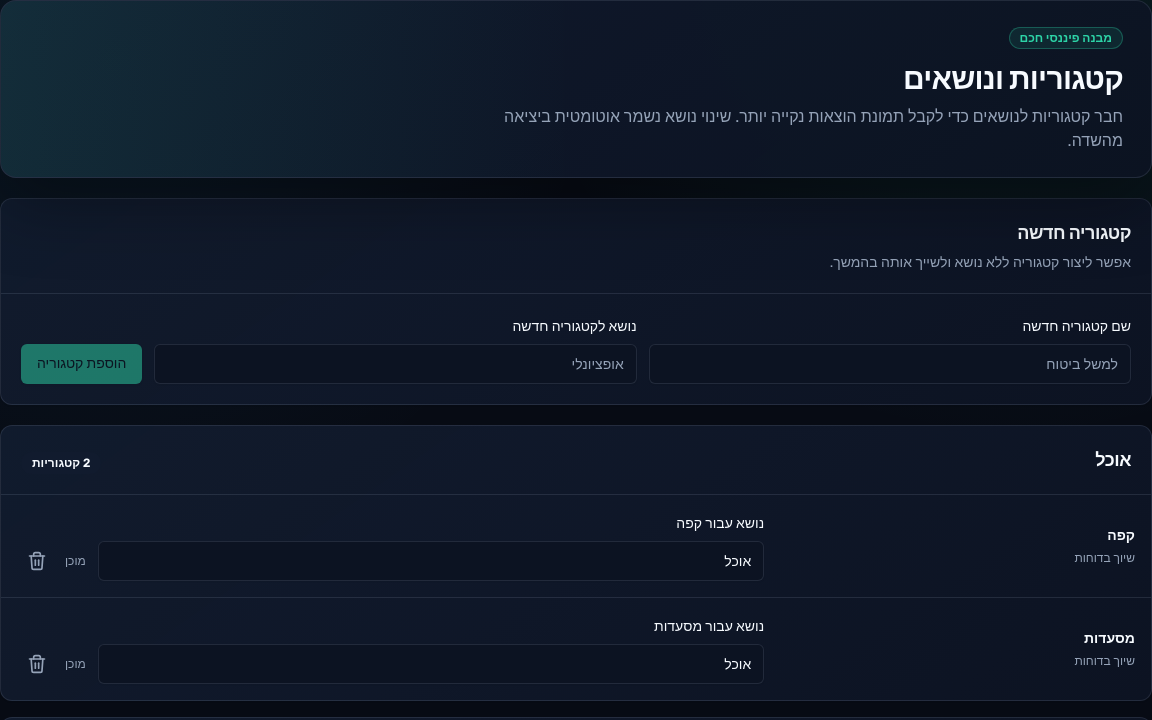
clears an active saved-feedback timer on unmount
Replace the text in the field labelled "נושא עבור קפה" with "בתי קפה" at (431, 561), box [98,541,764,581]
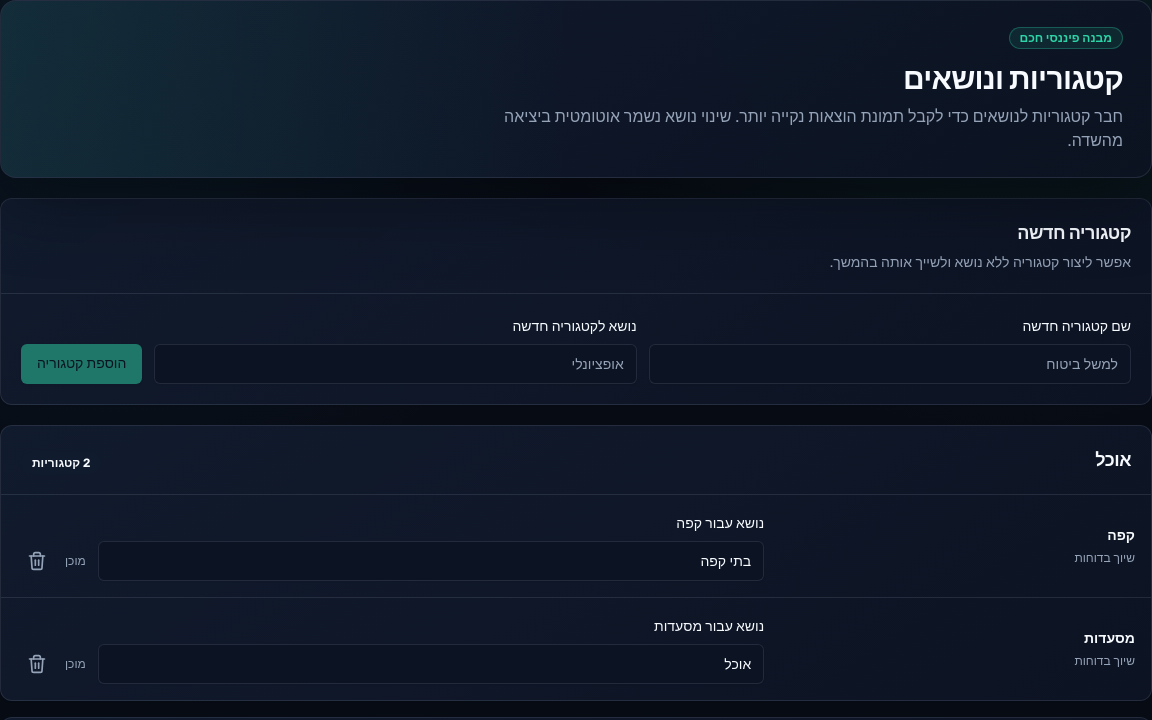
Leave the field labelled "נושא עבור קפה", box [98,541,764,581]
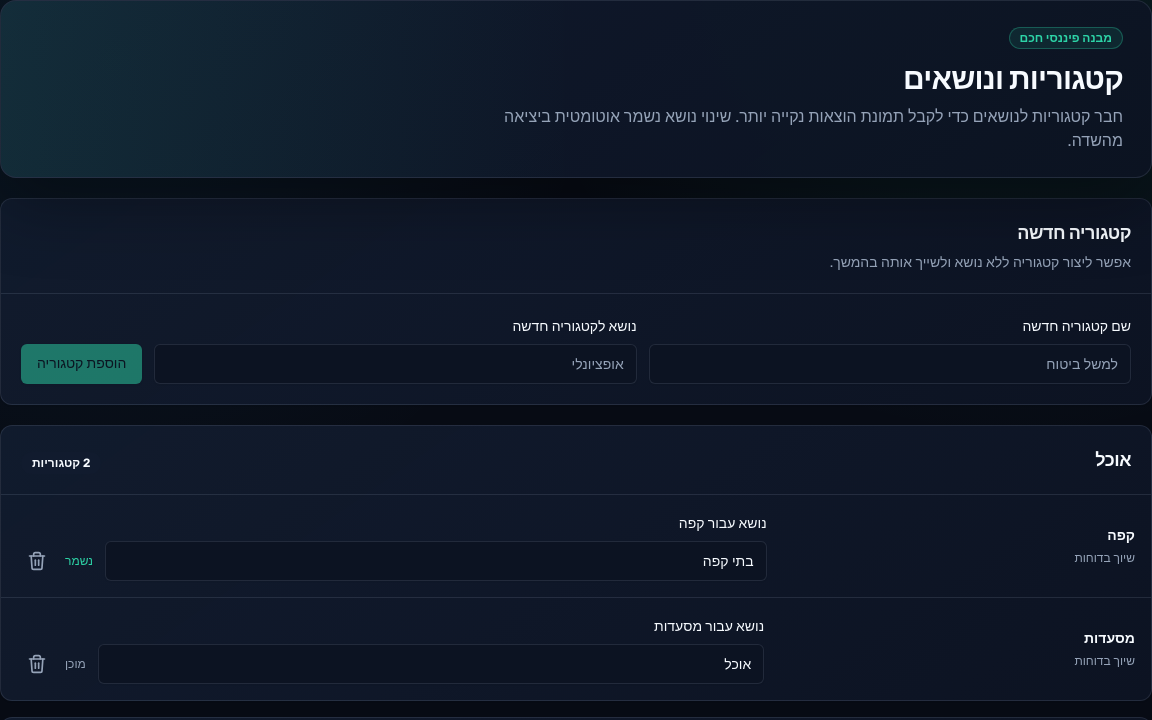
Expected: the text "נשמר" is shown, [65,554,93,568]
